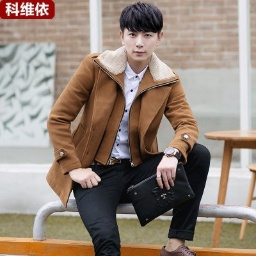face: (120, 2, 164, 61)
